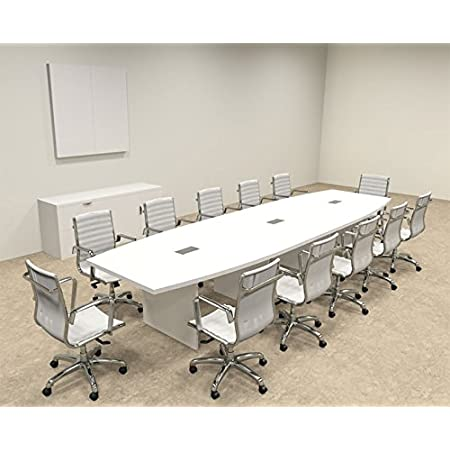conference_table: (84, 189, 392, 350)
